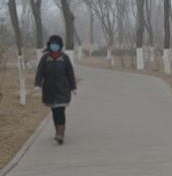person: (32, 33, 81, 147)
